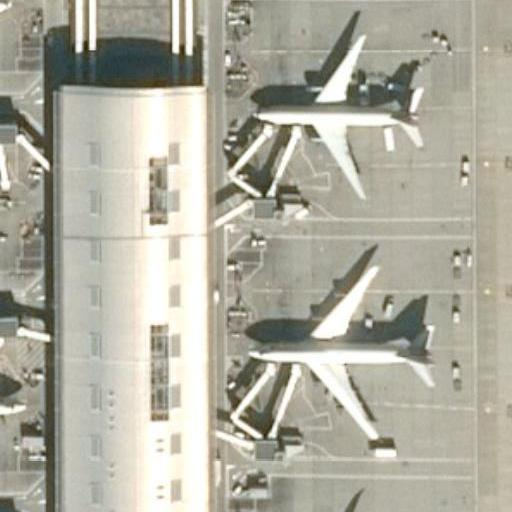Aircraft: (244, 261, 438, 446), (253, 29, 423, 193), (0, 315, 24, 491), (0, 0, 4, 92), (241, 510, 398, 512), (0, 152, 1, 247)
